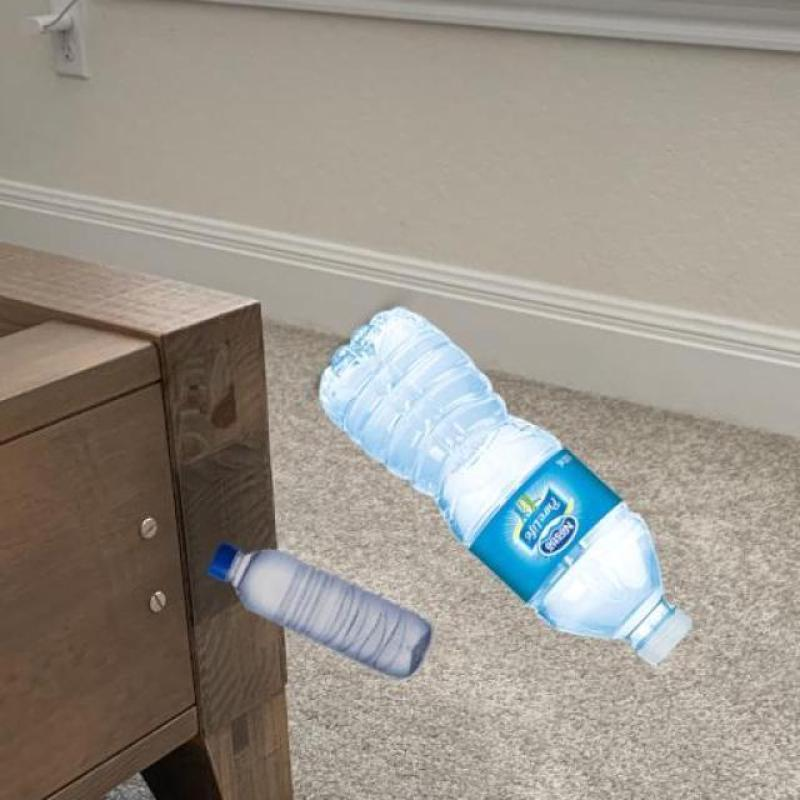botella: (314, 306, 694, 670), (211, 545, 431, 677)
